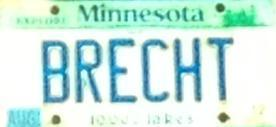placa de veiculo: (20, 3, 259, 123)
